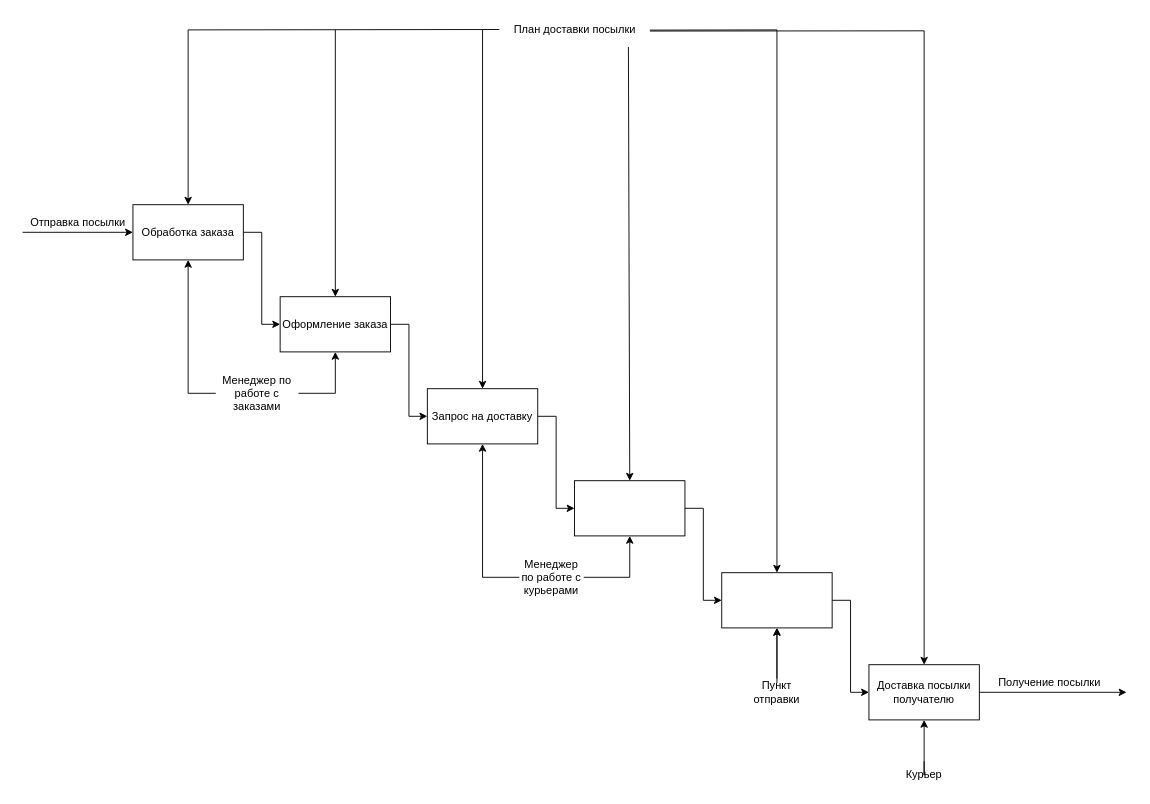
Image size: 1150x804. Some labels were removed from this diagram. Here are the shapes that lost their labels. From the top down, the centre of each, then its label:
the point at 629,508: Поиск курьера
the point at 776,600: Передача посылки курьеру
